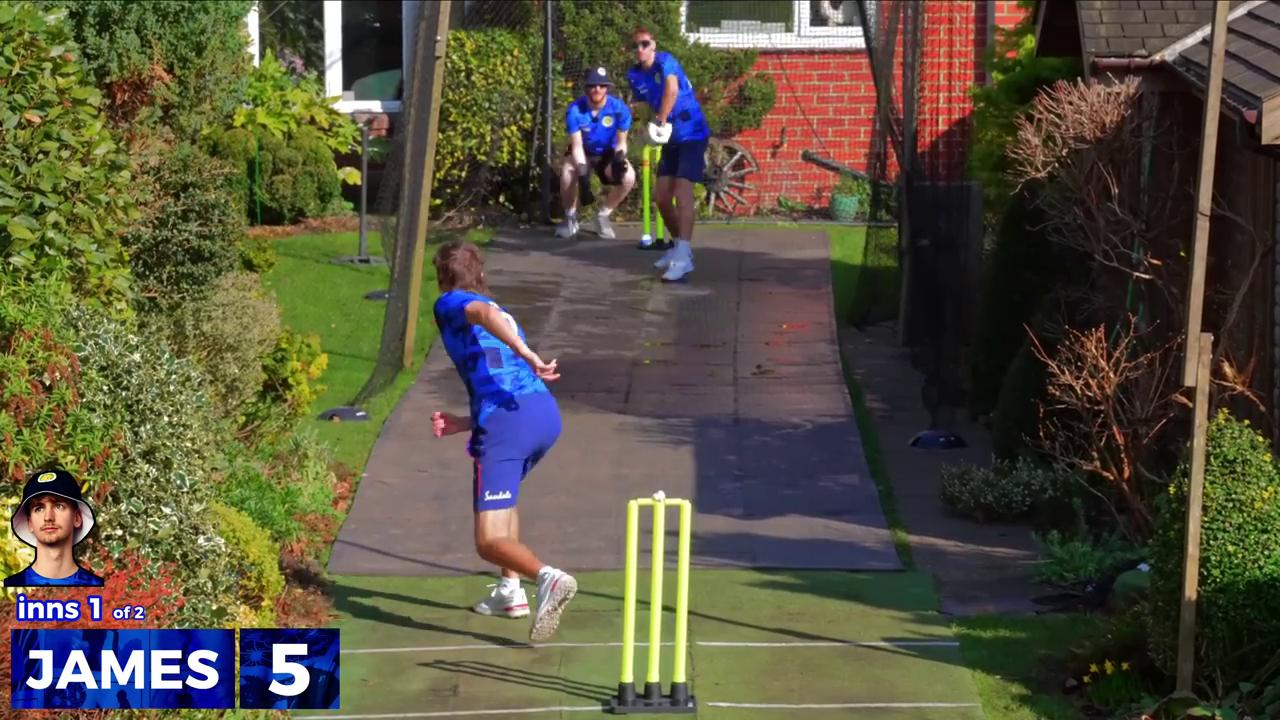ball: (629, 220, 658, 259)
